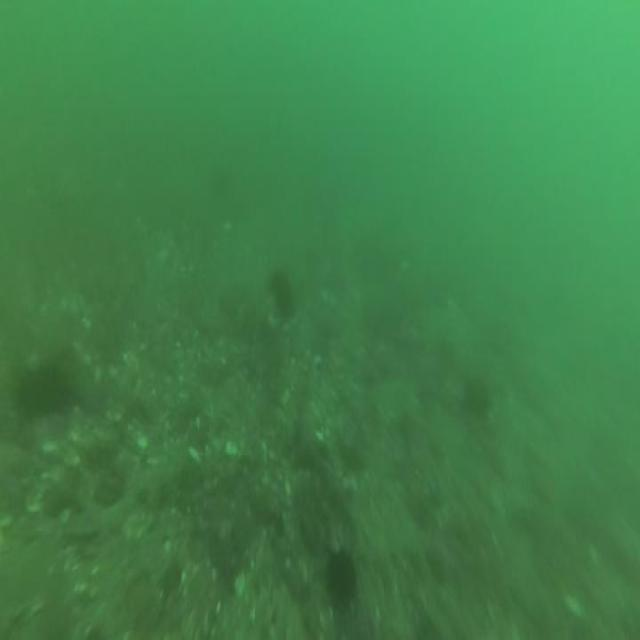echinus: (14, 358, 74, 424), (324, 542, 360, 613), (461, 366, 494, 424), (268, 264, 296, 316)
